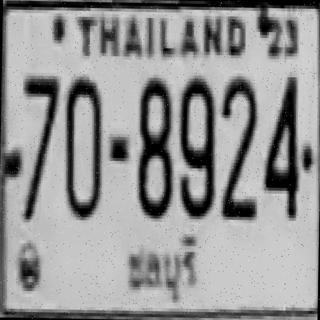N00: (64, 73, 102, 217)
N02: (219, 73, 257, 217)
N04: (261, 72, 299, 216)
N07: (20, 71, 58, 218)
N08: (135, 74, 173, 216)
N09: (176, 74, 214, 214)
P13: (118, 225, 200, 312)
